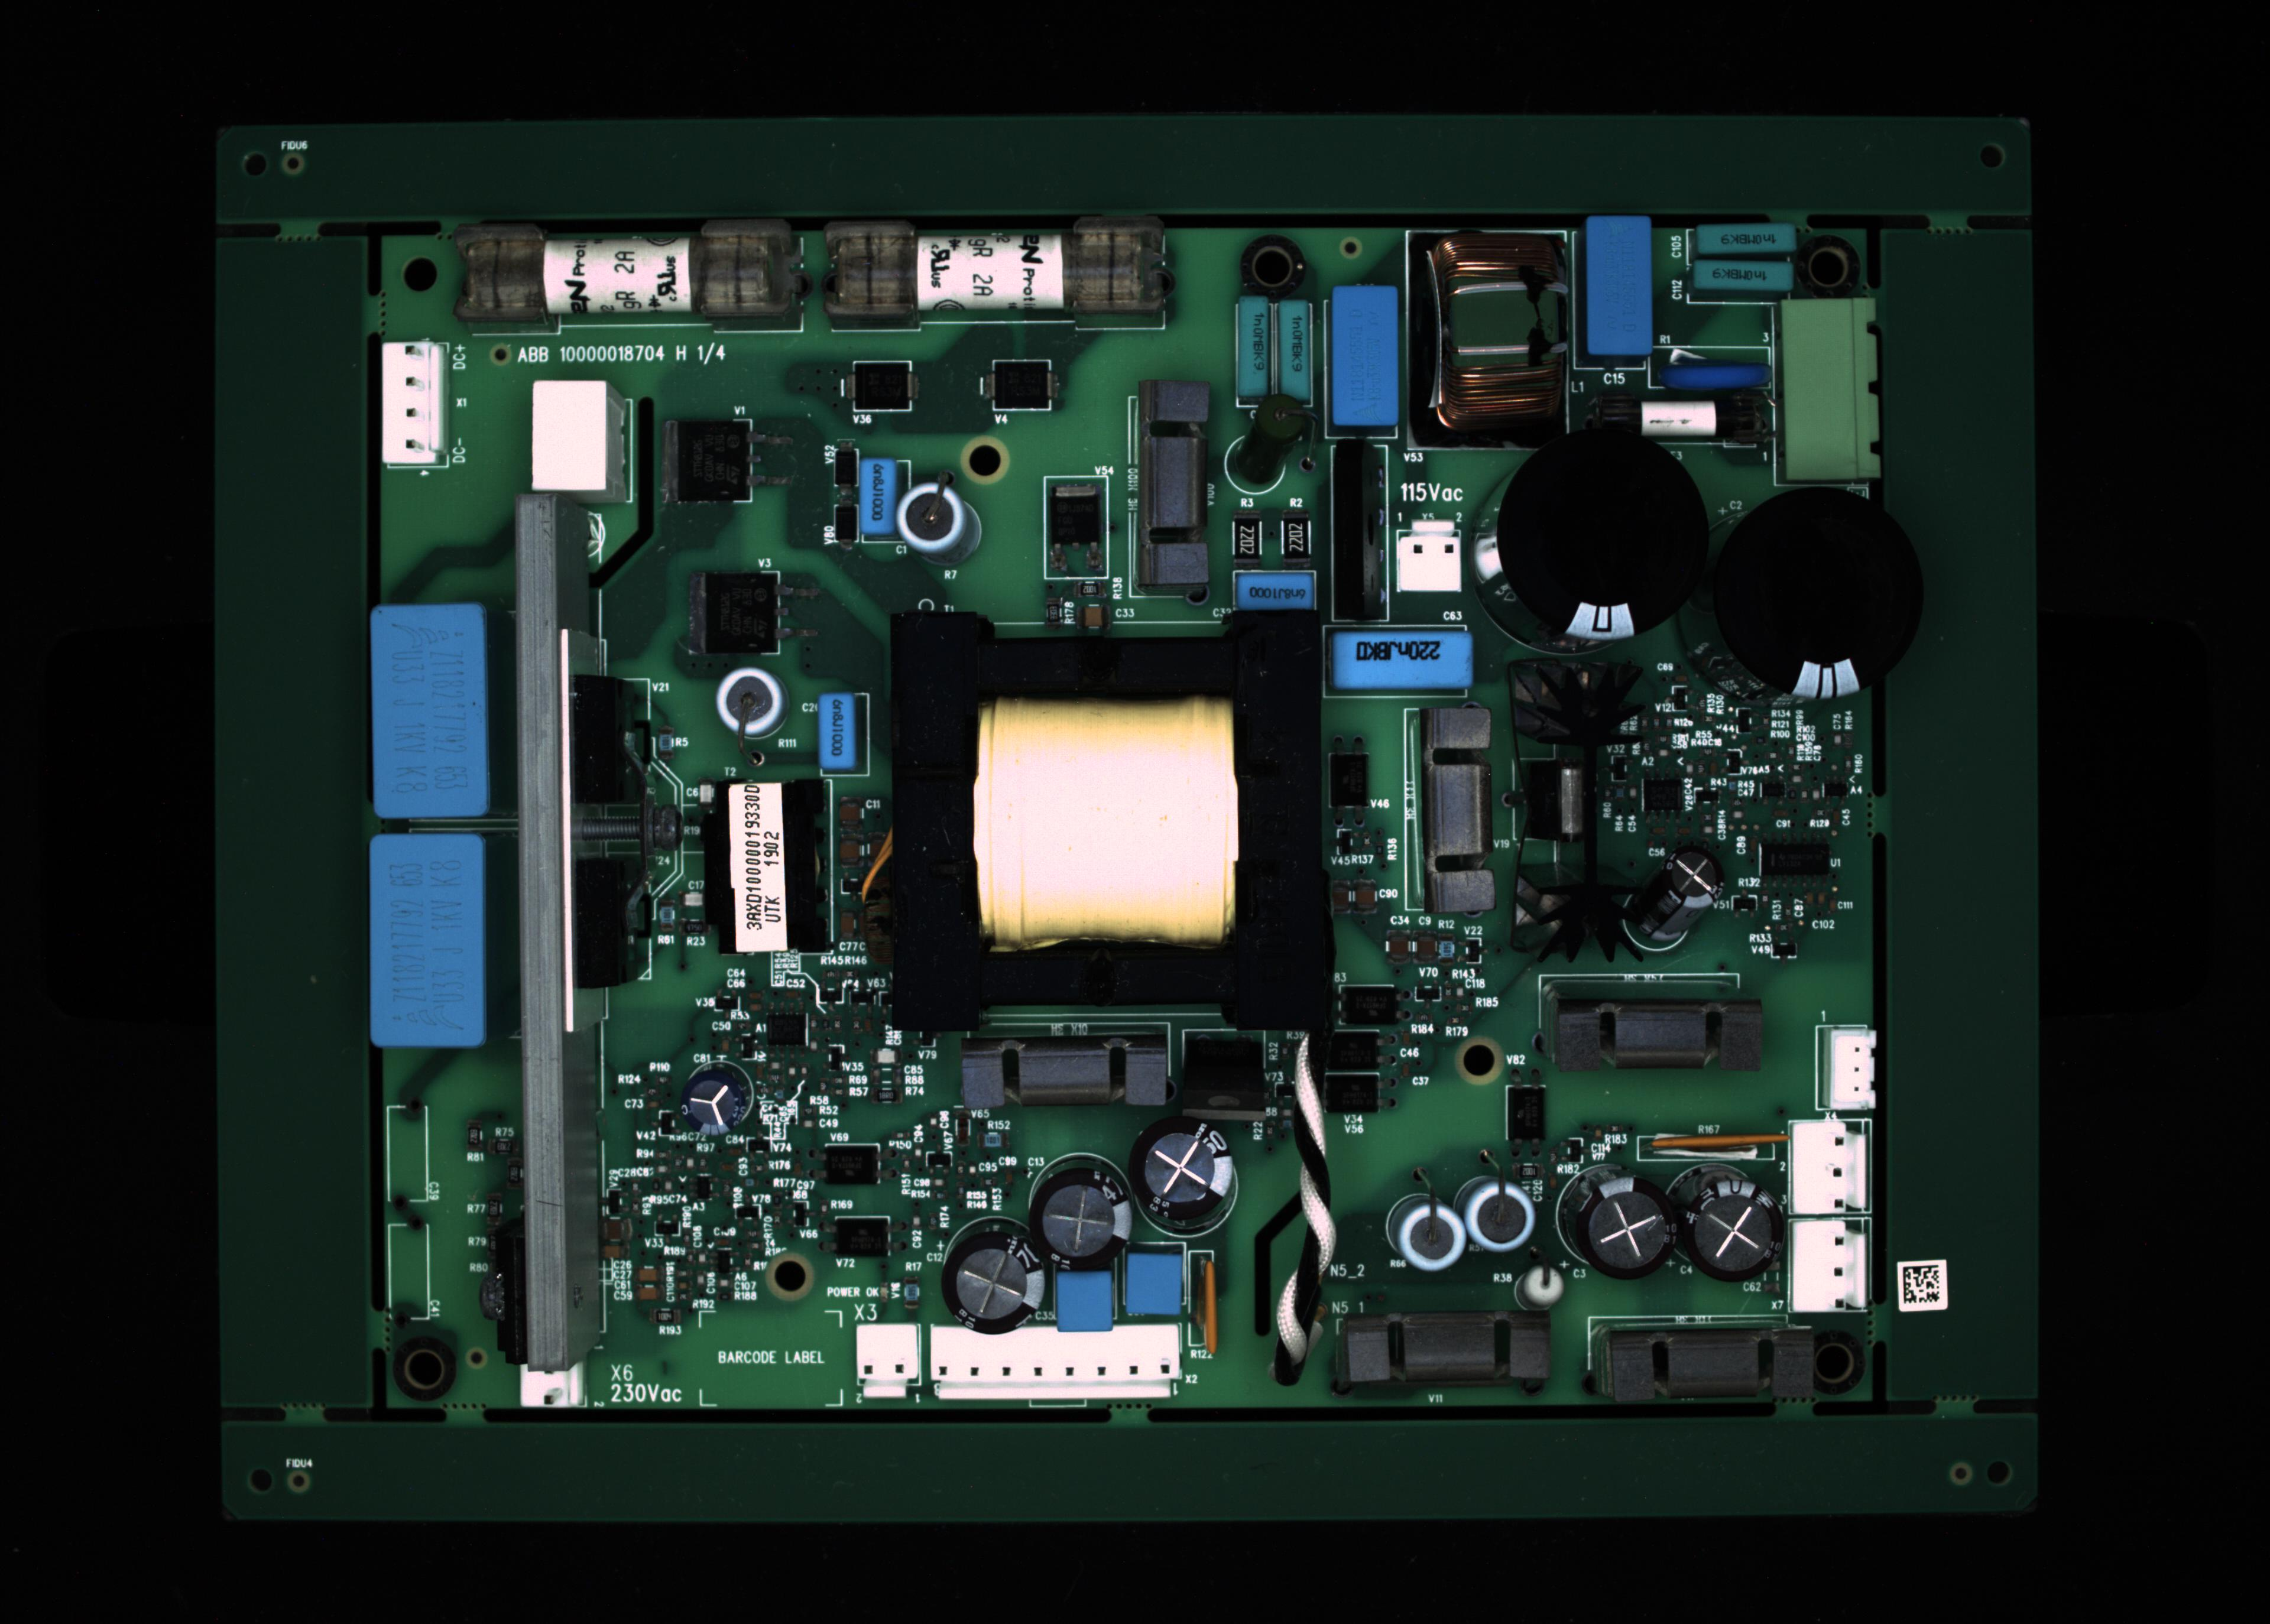10_p: (1648, 346, 1772, 394)
11_q: (1778, 294, 1881, 473)
12_r: (1591, 387, 1776, 455)
13_s: (382, 341, 445, 464)
14_t: (529, 380, 629, 503)
15_e: (862, 459, 897, 533)
16_k: (900, 485, 964, 550)
17_u: (1127, 385, 1206, 608)
18_v: (1238, 575, 1319, 613)
19_w: (1335, 631, 1468, 684)
1_a: (462, 218, 807, 316)
20_f: (1394, 522, 1463, 594)
21_g: (1496, 429, 1711, 640)
22_g: (1706, 483, 1924, 691)
23_h: (375, 605, 487, 816)
24_h: (375, 833, 485, 1042)
25_f: (520, 1360, 582, 1406)
26_f: (856, 1325, 918, 1397)
27_x: (927, 1329, 1185, 1403)
28_i: (1129, 1121, 1240, 1223)
29_i: (1027, 1153, 1134, 1274)
2_a: (832, 220, 1176, 320)
30_i: (946, 1223, 1041, 1336)
31_j: (1051, 1269, 1115, 1332)
32_j: (1122, 1250, 1182, 1315)
33_e: (819, 694, 860, 768)
34_k: (1396, 1200, 1463, 1278)
35_k: (1468, 1181, 1539, 1250)
36_i: (1579, 1179, 1674, 1278)
37_i: (1681, 1178, 1793, 1285)
38_l: (1349, 1318, 1560, 1387)
39_l: (1586, 1323, 1823, 1403)
3_b: (1234, 295, 1270, 399)
40_l: (1539, 977, 1771, 1069)
41_y: (1417, 701, 1496, 910)
42_z: (1825, 1026, 1878, 1107)
43_m: (1792, 1120, 1874, 1216)
44_m: (1793, 1225, 1873, 1313)
45_i: (679, 1063, 751, 1135)
46_n: (1342, 986, 1396, 1026)
47_n: (825, 1142, 883, 1186)
48_n: (832, 1216, 891, 1260)
49_aa: (761, 1011, 807, 1051)
4_b: (1282, 299, 1317, 399)
50_n: (1324, 1030, 1373, 1070)
51_n: (1321, 1070, 1377, 1111)
52_ab: (1331, 754, 1368, 808)
53_ac: (1656, 1130, 1790, 1165)
54_ad: (1194, 1253, 1222, 1364)
55_l: (964, 1037, 1173, 1107)
56_ae: (1182, 1030, 1264, 1114)
57_af: (1509, 647, 1635, 951)
58_i: (1619, 881, 1695, 956)
59_o: (990, 359, 1050, 411)
5_c: (1335, 286, 1400, 429)
60_o: (851, 362, 913, 411)
6_ag: (1405, 232, 1572, 452)
7_c: (1586, 218, 1644, 353)
8_d: (1695, 221, 1795, 255)
9_d: (1692, 262, 1793, 292)
